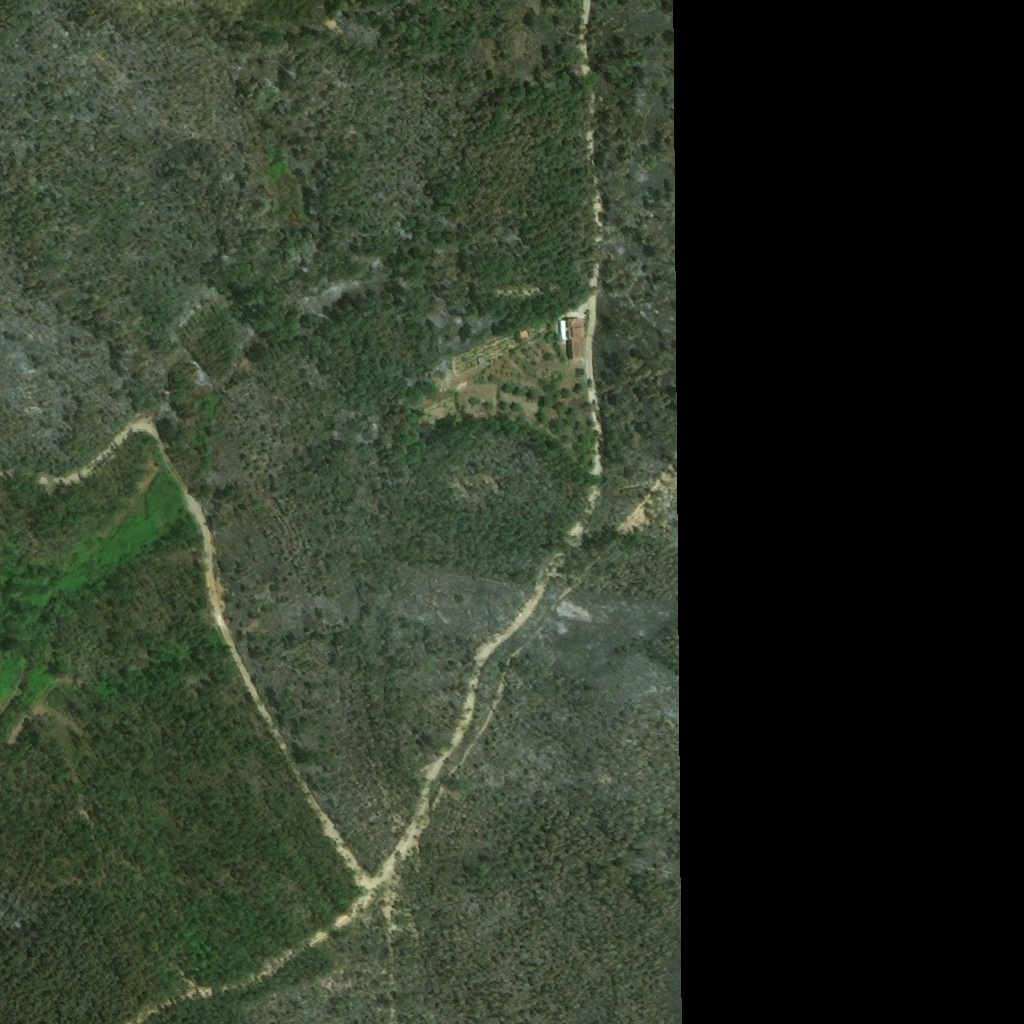0 no-damage: (560, 318, 587, 360)
